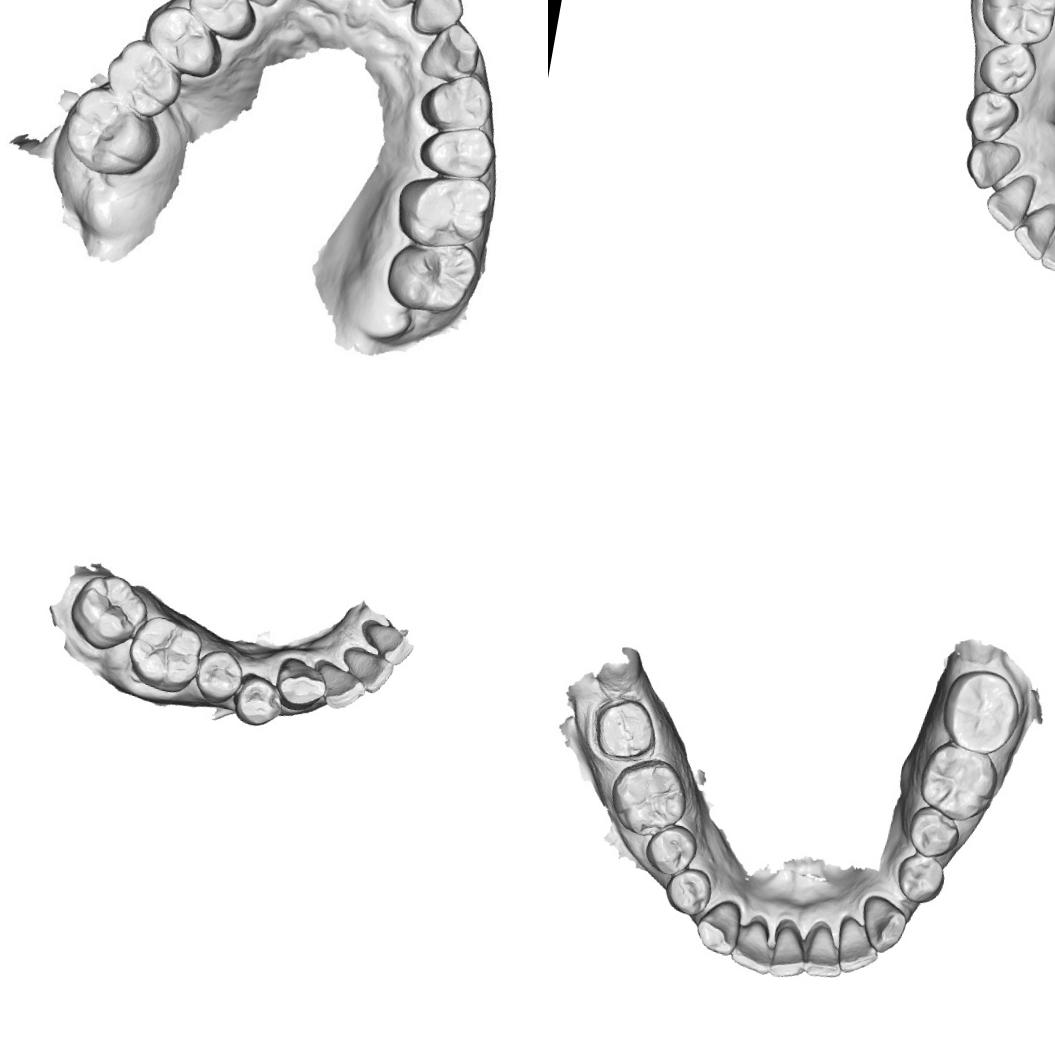canine: (416, 21, 482, 89), (270, 653, 330, 715), (960, 136, 1023, 195), (855, 892, 911, 958), (691, 894, 744, 958)
crown: (587, 692, 662, 766)
incisor: (980, 166, 1038, 234), (831, 912, 885, 977), (310, 659, 369, 714), (727, 915, 779, 976), (1008, 195, 1055, 262), (336, 645, 396, 696), (800, 920, 848, 981), (767, 919, 812, 981), (358, 620, 416, 668), (411, 0, 465, 36), (1038, 207, 1055, 277)
molar: (59, 84, 164, 184), (384, 164, 490, 252), (602, 751, 694, 843), (914, 732, 1004, 826), (62, 567, 153, 658), (380, 234, 476, 319), (936, 662, 1021, 752), (122, 610, 208, 697), (105, 38, 184, 118), (973, 0, 1055, 52)
premolar: (416, 64, 498, 139), (148, 4, 218, 73), (416, 122, 497, 181), (974, 38, 1040, 98), (960, 86, 1023, 148), (640, 818, 700, 880), (903, 802, 963, 861), (229, 669, 287, 730), (191, 644, 246, 706), (892, 849, 949, 907), (187, 0, 257, 46), (660, 863, 715, 918)
